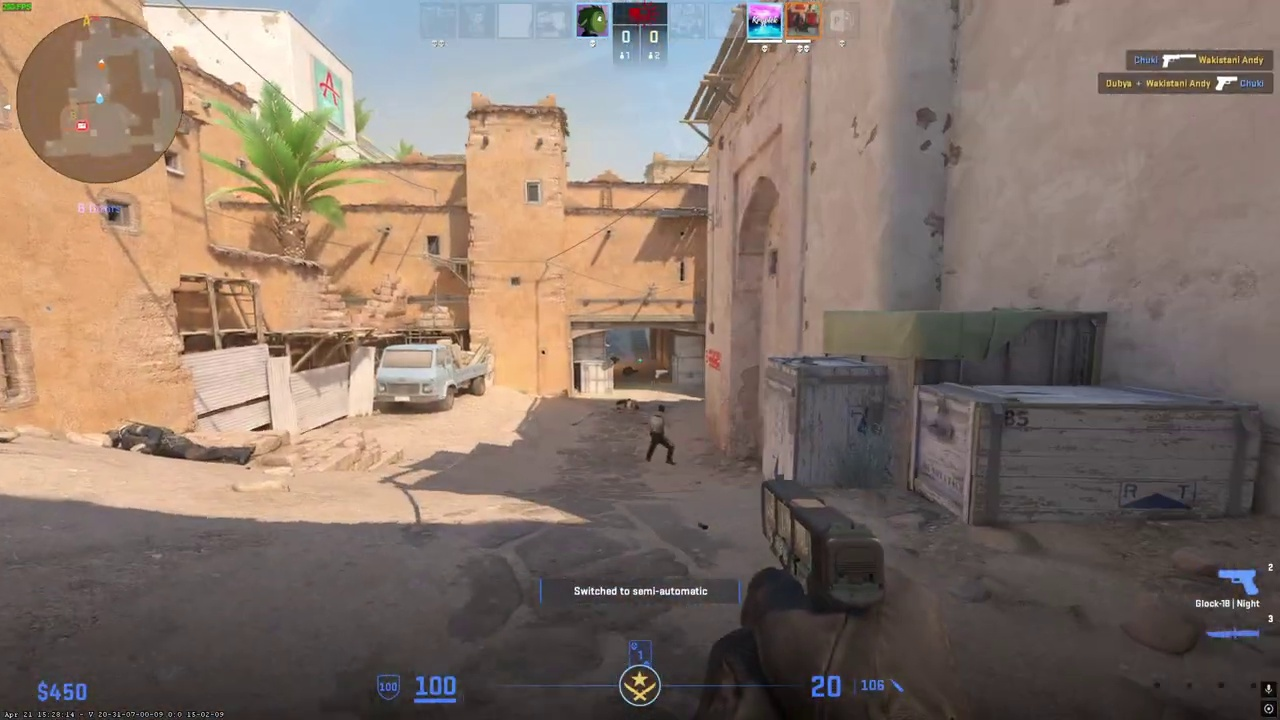Terrorist: (646, 405, 675, 465)
